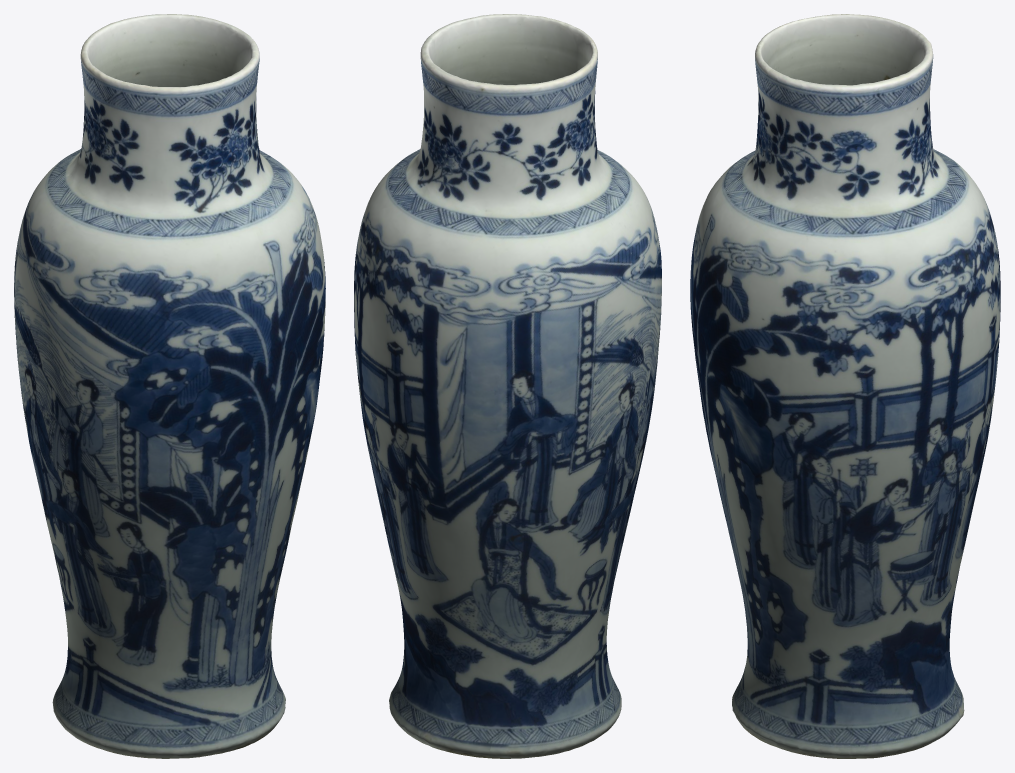
File: covered-vase-191.glb
3 renders of one model, left to right at view 1: azimuth 30°, elevation 25°; view 2: azimuth 150°, elevation 25°; view 3: azimuth 270°, elevation 25°, orthographic.
Size of the model in its own units: 0.1708 by 0.4053 by 0.1718.
1 material, 1 textured.
